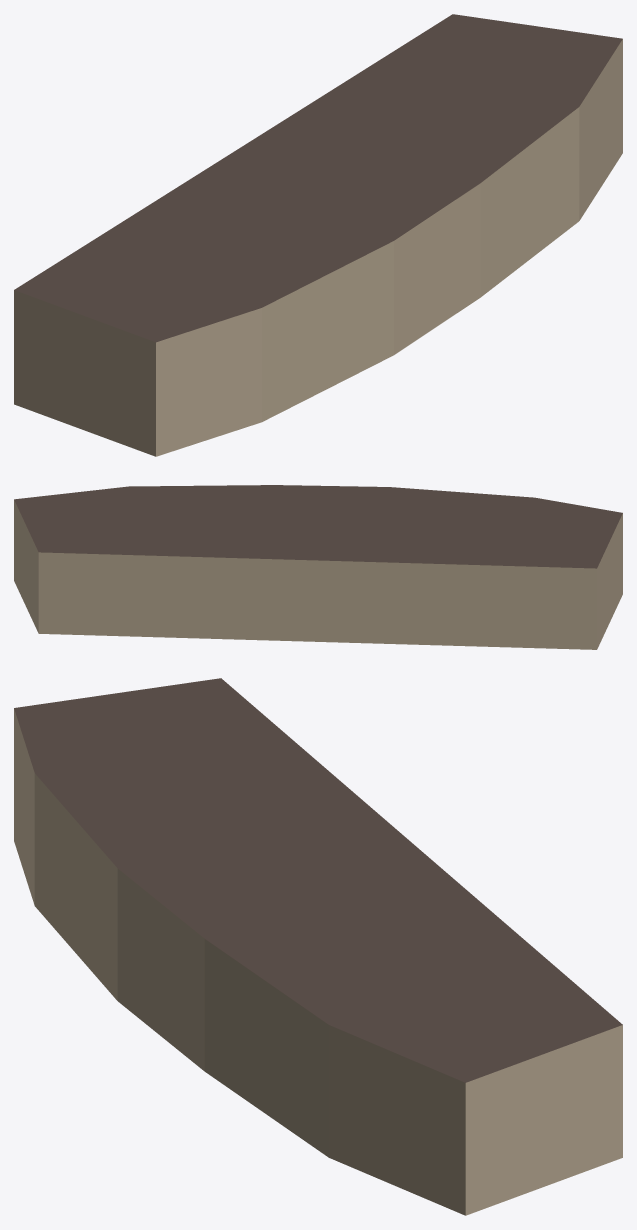
The picture shows the model from 3 angles, top to bottom: view 1: azimuth 30°, elevation 25°; view 2: azimuth 150°, elevation 25°; view 3: azimuth 270°, elevation 25°; orthographic projection. The views are drawn at different scales.
Parts seen in each view (by area): view 1: HP-w859082581; view 2: HP-w859082581; view 3: HP-w859082581.
Part boxes in pixels (x1,y1,x2,y2): HP-w859082581: (14, 14, 622, 456); HP-w859082581: (14, 485, 622, 649); HP-w859082581: (14, 678, 622, 1215).
Size of the model in its own units: 58.78 by 9 by 37.38.
